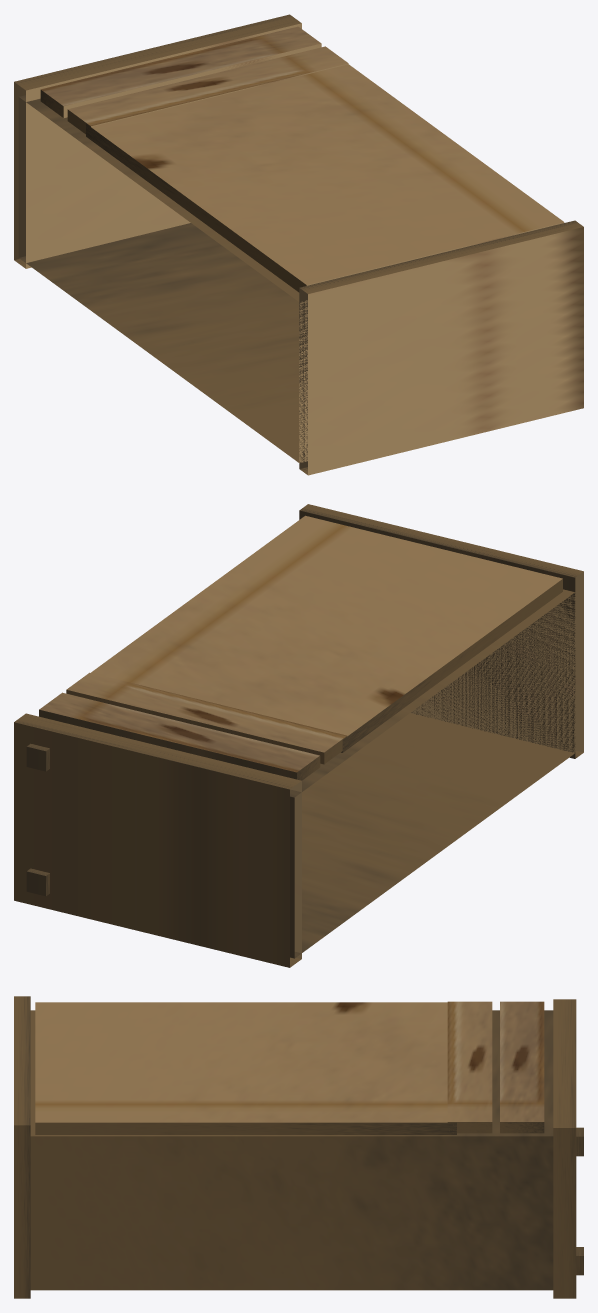
File: pz_wardrobe_storage_01_light_wood_1_0.obj
The picture shows the model from 3 angles, top to bottom: view 1: azimuth 30°, elevation 25°; view 2: azimuth 150°, elevation 25°; view 3: azimuth 270°, elevation 25°; orthographic projection. The views are drawn at different scales.
Size of the model in its own units: 0.995 by 0.625 by 1.86.
1 material, 1 textured.
